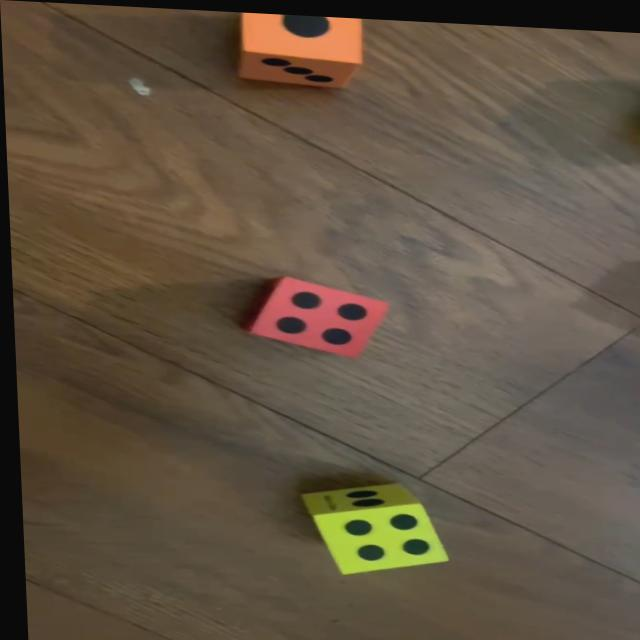cube: (245, 273, 386, 356)
